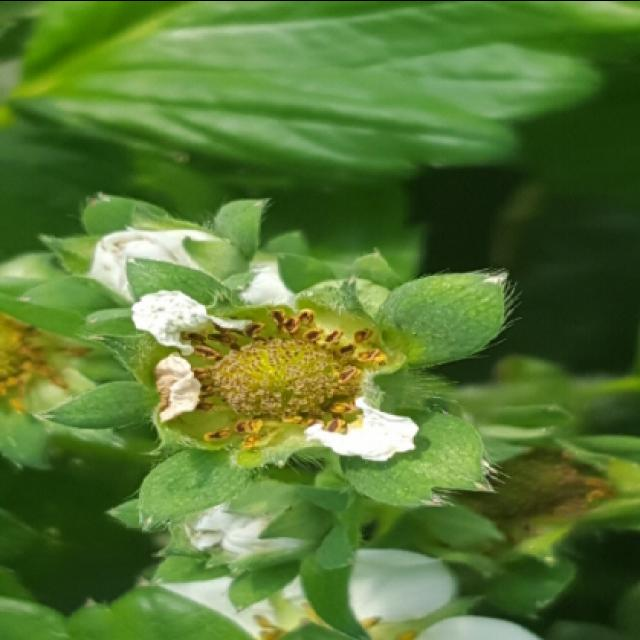Blossom Blight: (168, 300, 404, 466)
